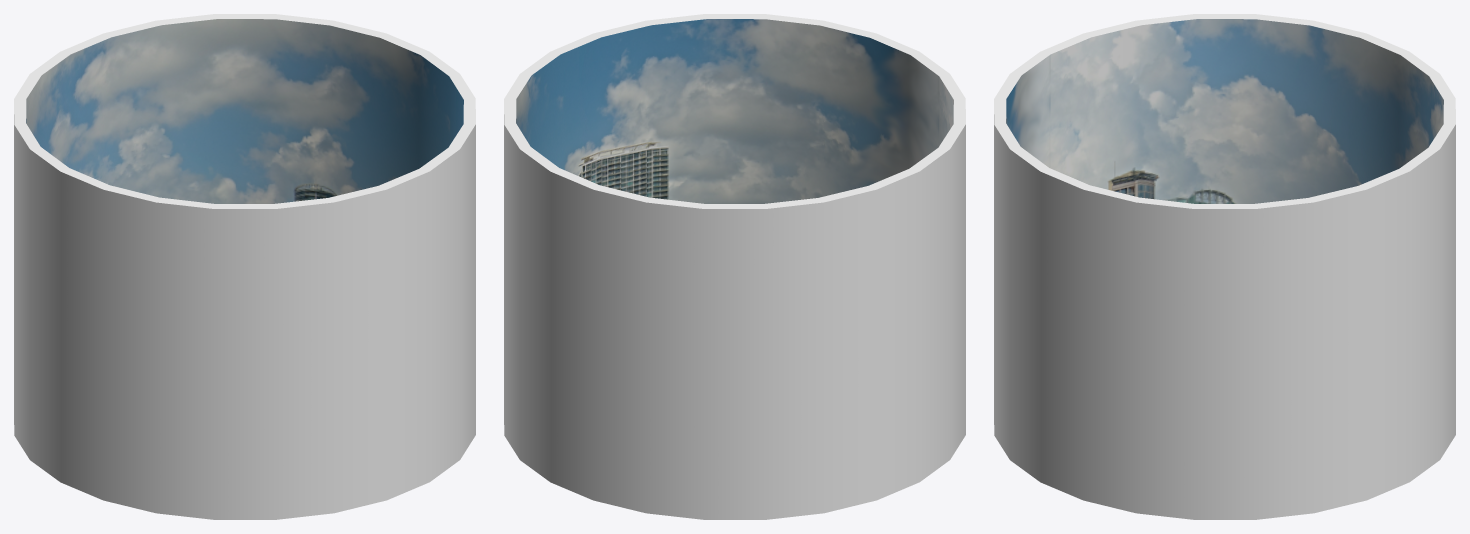
Rendered from panorama.fbx.
3 renders of one model, left to right at view 1: azimuth 30°, elevation 25°; view 2: azimuth 150°, elevation 25°; view 3: azimuth 270°, elevation 25°, orthographic.
Visible parts, largest first — view 1: Model; view 2: Model; view 3: Model.
Part boxes in pixels (box(x1,y1,x2,y2)): Model: box(14, 14, 475, 519); Model: box(504, 14, 965, 519); Model: box(994, 14, 1455, 519).
Bounding box in the file's own units: 1077 × 800 × 1077.
2 materials, 1 textured.
